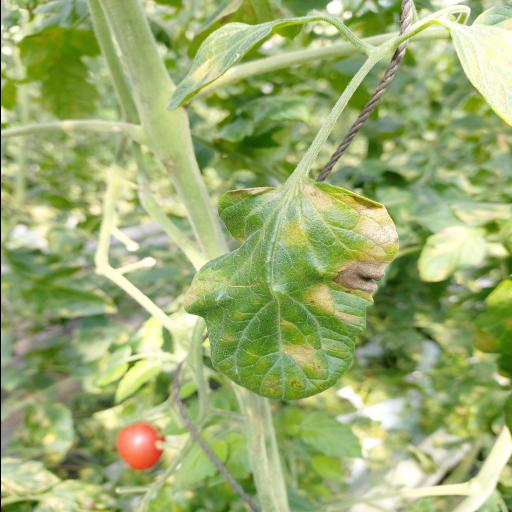disease_tomato: (180, 176, 400, 402)
